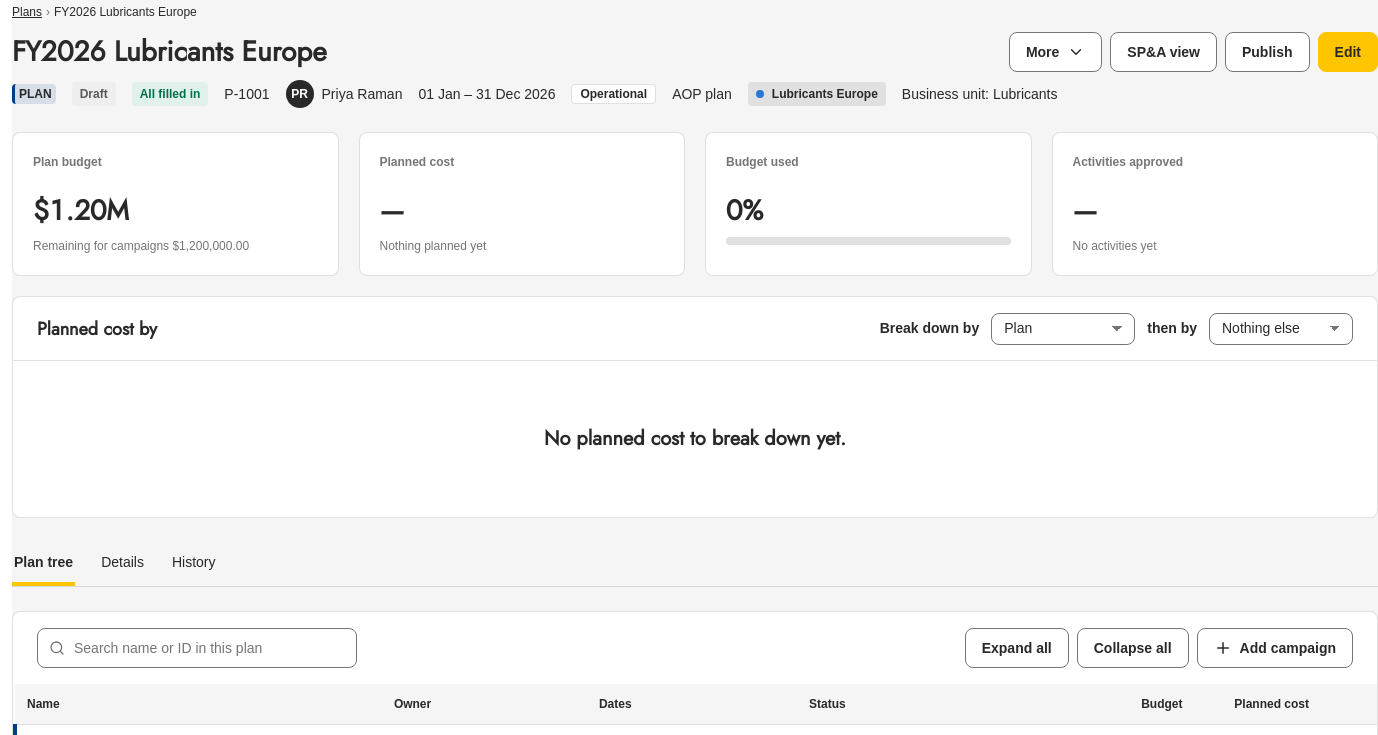
Test: PlanPage actions and history (US5, US6, FR-026 – FR-031) › offers Publish on a Draft plan and publishes it (US3#1, US5#1)
What coordinates should you click on to do the following:
click the button "Publish"
I would click on:
 (1267, 52)
Its box is [1225,32,1310,72].
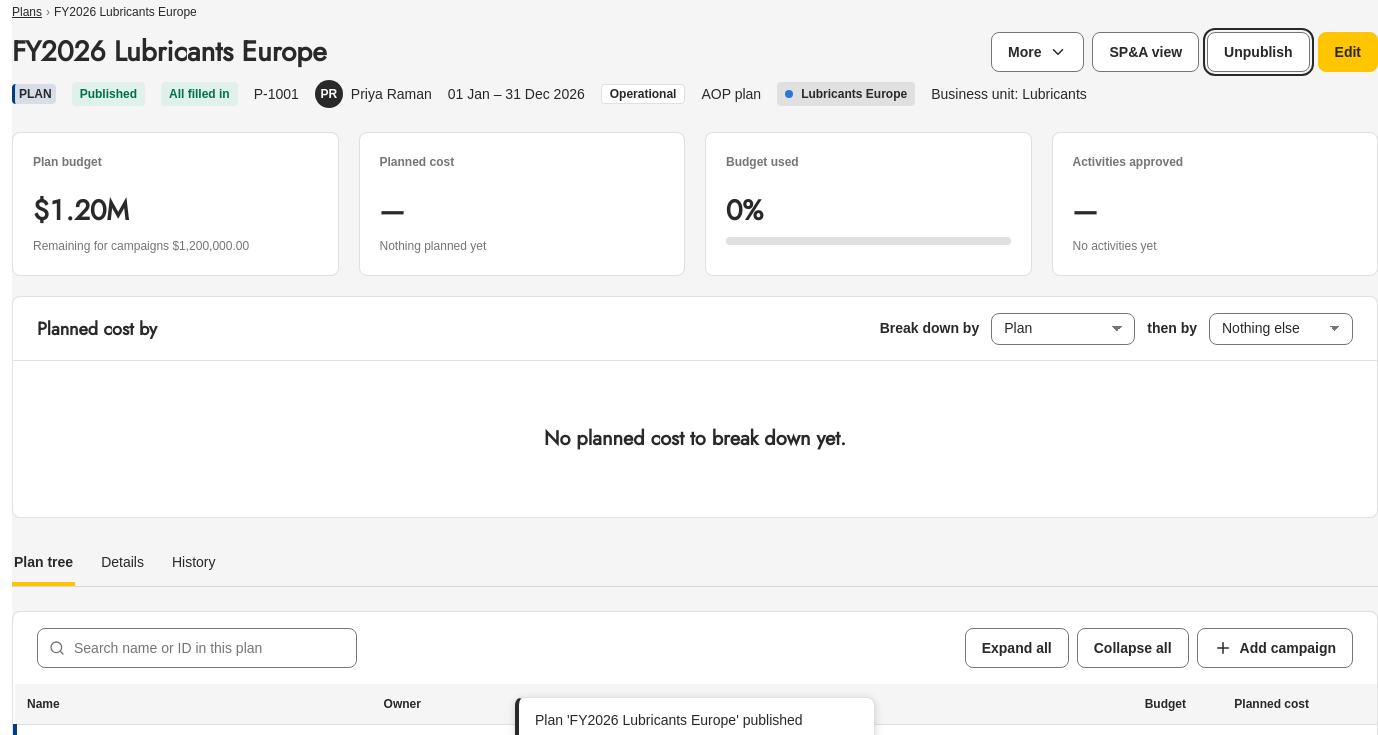
Expected: the text "Plan 'FY2026 Lubricants Europe' published" is shown, [535,712,803,728]
Expected: the button "Unpublish" is shown, [1207,32,1310,72]
Expected: the header shows "Published", [80,87,137,101]
